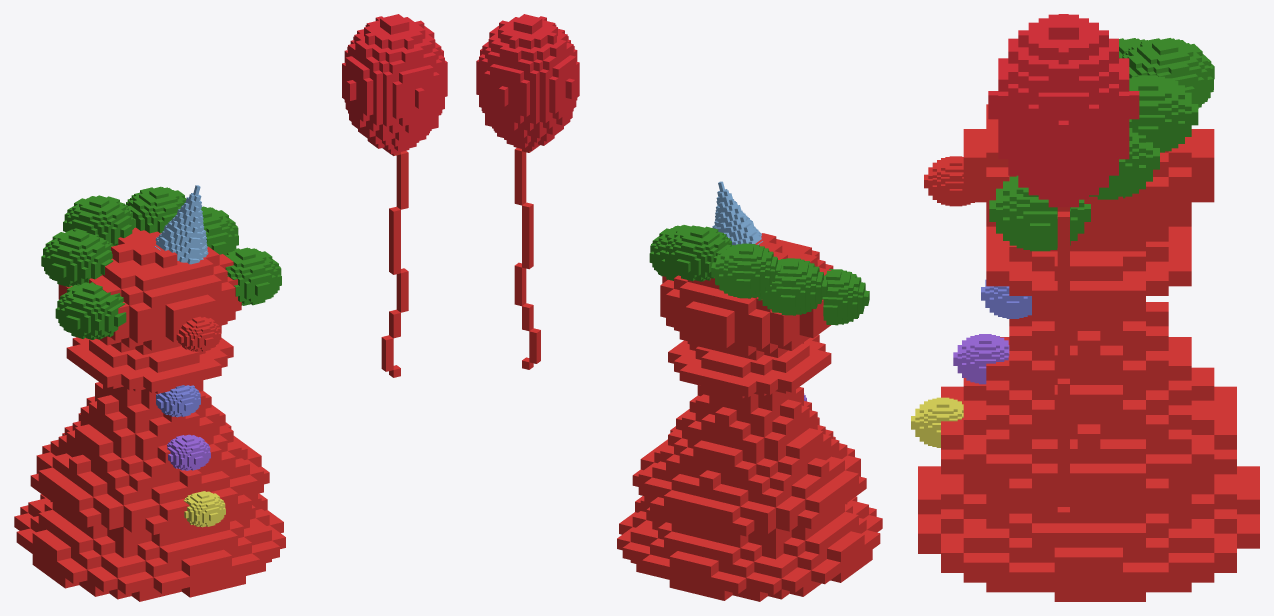
Rendered from ClownAndBalloon.fbx.
3 views of the same model, side by side, from view 1: azimuth 30°, elevation 25°; view 2: azimuth 150°, elevation 25°; view 3: azimuth 270°, elevation 25° (orthographic). The views are drawn at different scales.
Visible parts, largest first — view 1: Clown, Balloon; view 2: Clown, Balloon; view 3: Clown, Balloon.
Part boxes in pixels (x1,y1,x2,y2): Clown: (14, 185, 285, 601); Balloon: (342, 14, 447, 377); Clown: (617, 181, 882, 601); Balloon: (476, 14, 579, 369); Clown: (911, 38, 1259, 601); Balloon: (988, 14, 1139, 523).
Bounding box in the file's own units: 304 × 358 × 169.
